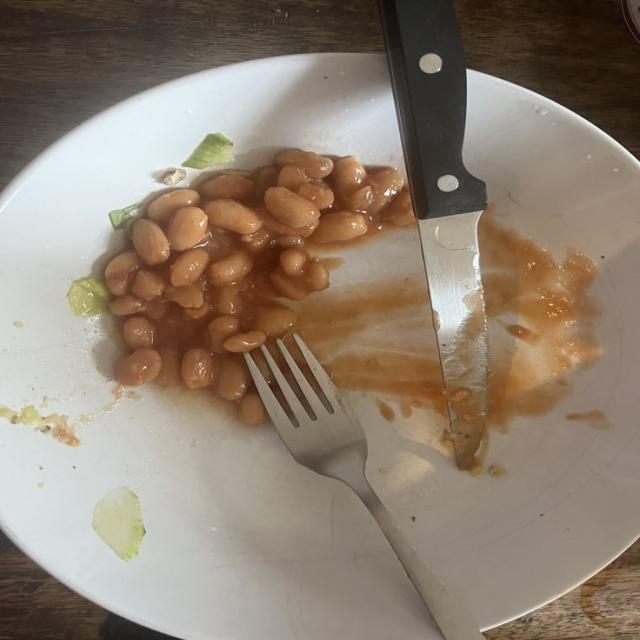beans: (270, 261, 329, 300), (265, 187, 319, 228), (205, 199, 262, 234), (147, 190, 199, 224), (312, 211, 367, 243), (167, 207, 207, 250), (116, 348, 161, 386), (133, 219, 169, 265), (367, 168, 403, 214), (214, 355, 250, 400), (276, 150, 333, 178), (207, 251, 253, 285), (260, 211, 319, 237), (170, 248, 209, 287), (106, 251, 139, 295), (253, 306, 296, 337), (203, 316, 239, 353), (332, 156, 366, 195), (200, 175, 253, 200), (181, 348, 213, 388), (270, 270, 309, 300), (382, 192, 415, 226), (122, 317, 154, 349), (132, 270, 166, 300), (155, 348, 182, 385), (238, 392, 266, 426), (297, 184, 333, 210), (165, 284, 203, 308), (223, 331, 266, 352), (213, 284, 242, 315), (251, 350, 276, 385), (277, 165, 308, 191), (253, 166, 279, 197), (241, 229, 273, 254), (280, 248, 308, 276), (110, 295, 148, 315), (345, 186, 373, 213), (305, 261, 329, 291), (183, 301, 211, 321), (145, 299, 169, 320)
